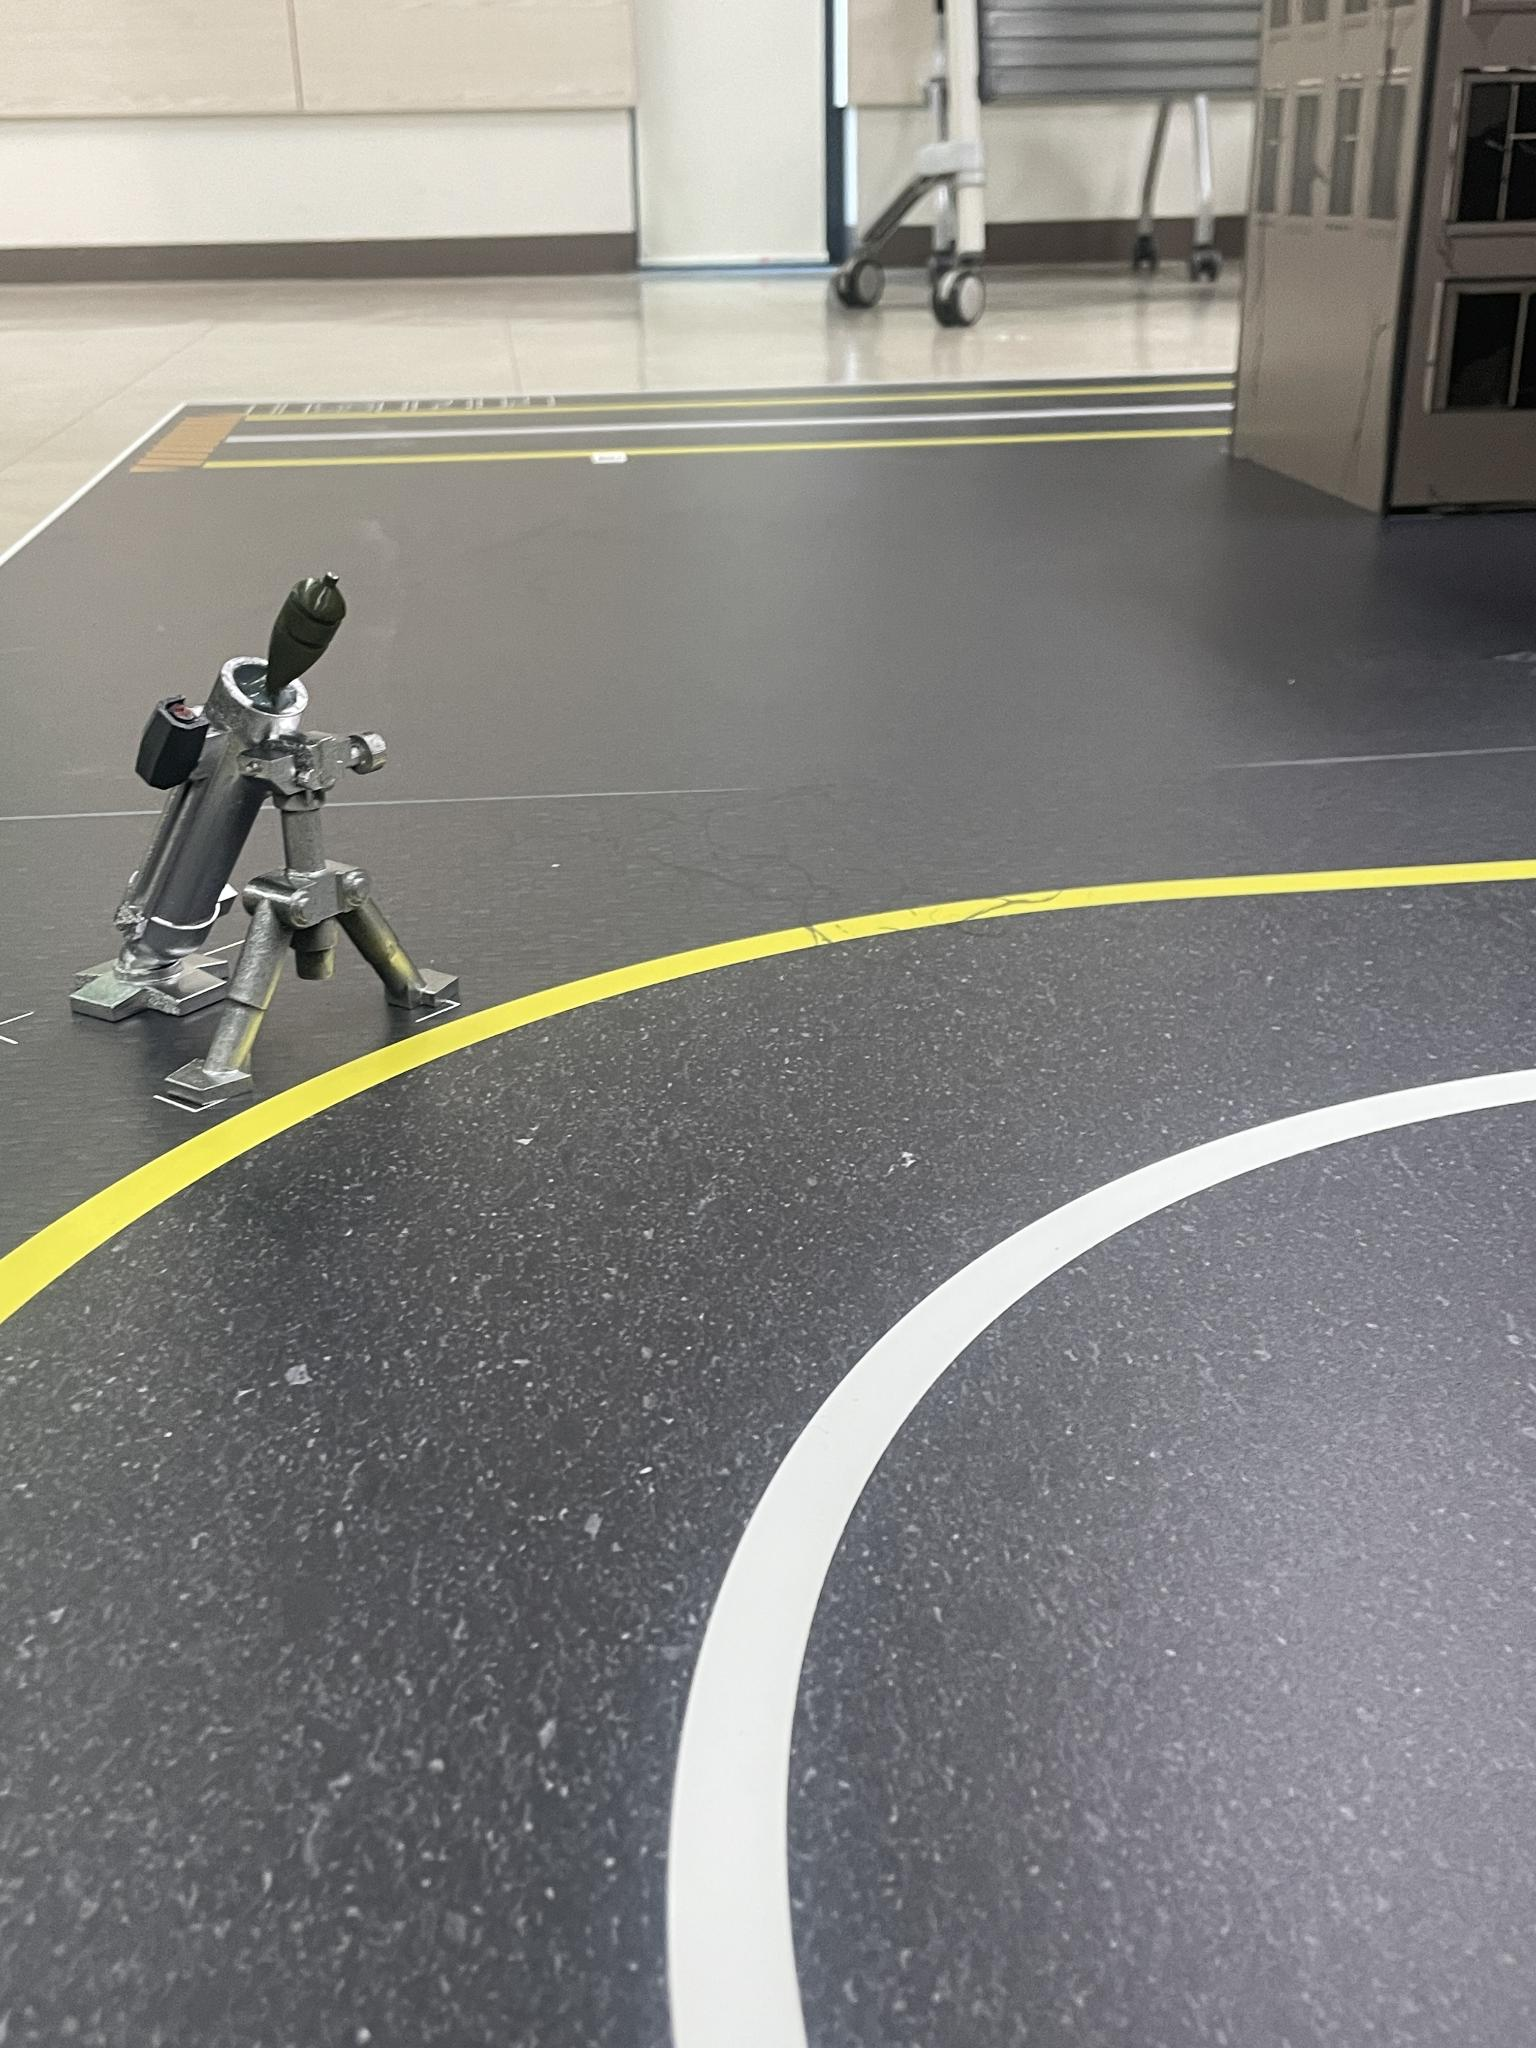Mortar: (68, 566, 490, 1138)
